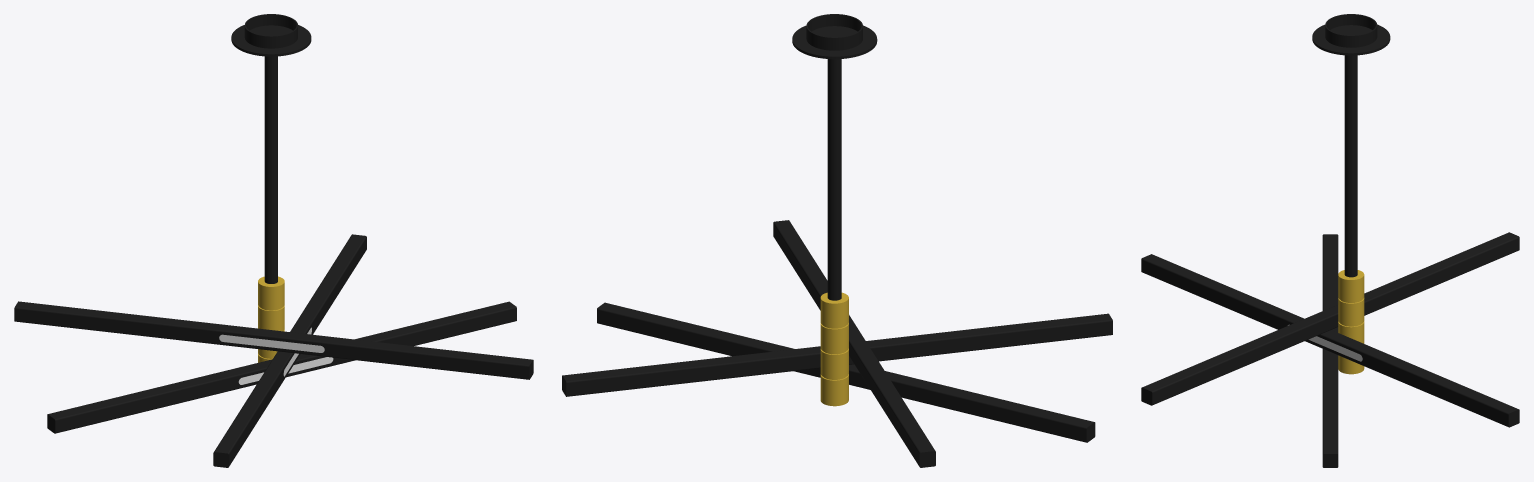
The picture shows the model from 3 angles, left to right: view 1: azimuth 30°, elevation 25°; view 2: azimuth 150°, elevation 25°; view 3: azimuth 270°, elevation 25°; orthographic projection. The views are drawn at different scales.
Parts seen in each view (by area): view 1: root; view 2: root; view 3: root.
Part boxes in pixels (x1=…): root: x1=14, y1=14, x2=533, y2=467; root: x1=562, y1=14, x2=1112, y2=467; root: x1=1141, y1=14, x2=1519, y2=467.
Size of the model in its own units: 1 by 0.73 by 0.7283.
